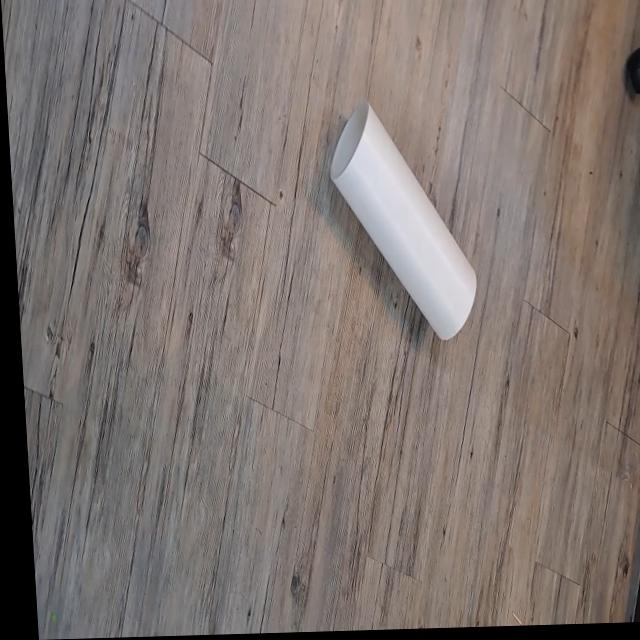CORAL: (323, 82, 486, 357)
